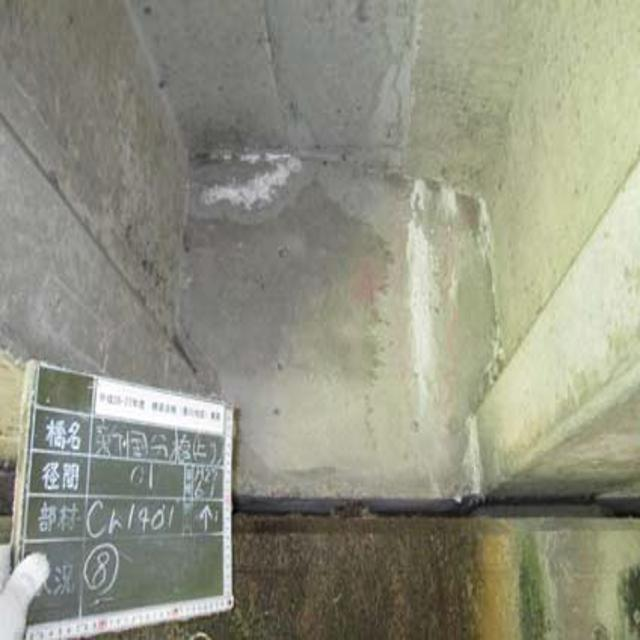freelime: (390, 172, 454, 407), (196, 134, 303, 214)
